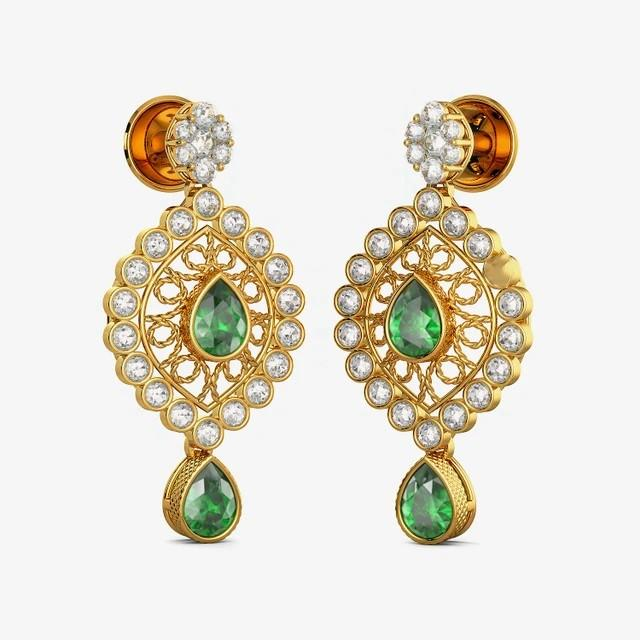missing gem: (486, 258, 513, 287)
